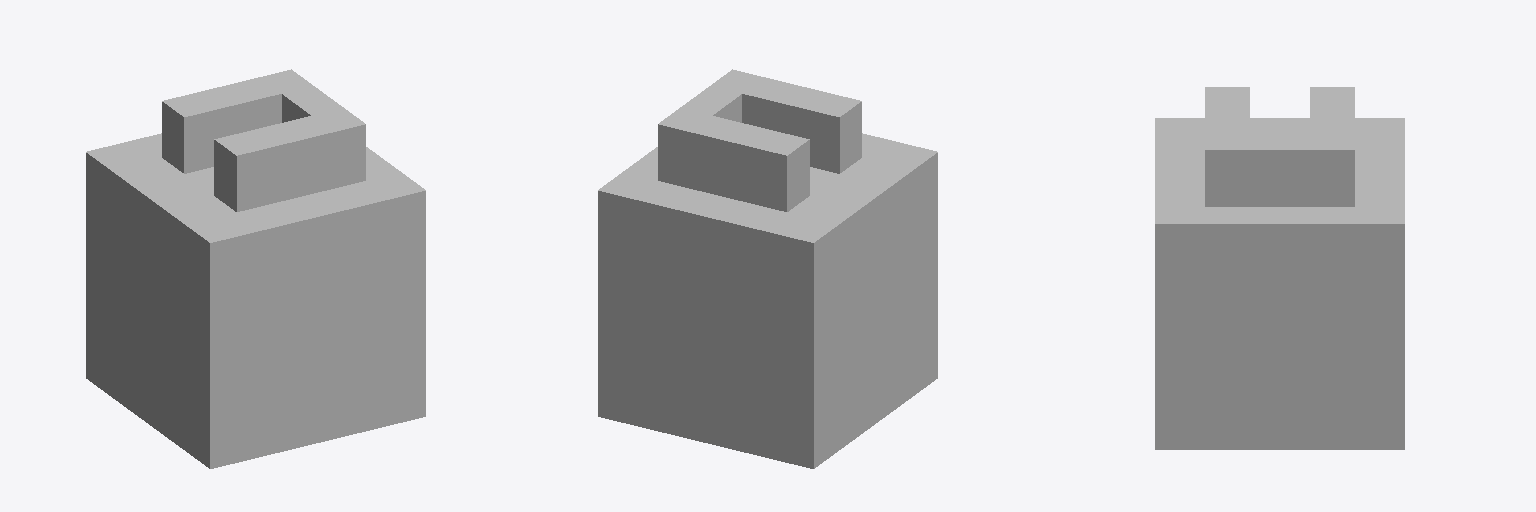
File: U_cube_cap_preprocessed.obj
3 renders of one model, left to right at view 1: azimuth 30°, elevation 25°; view 2: azimuth 150°, elevation 25°; view 3: azimuth 270°, elevation 25°, orthographic.
Bounding box in the file's own units: 0.08 × 0.1 × 0.08.